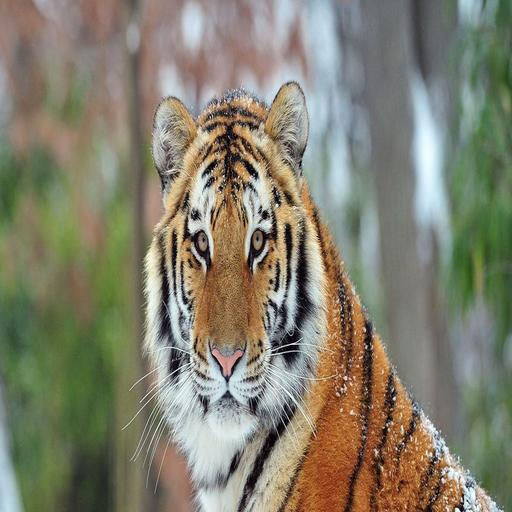Tiger: (104, 81, 512, 512)
